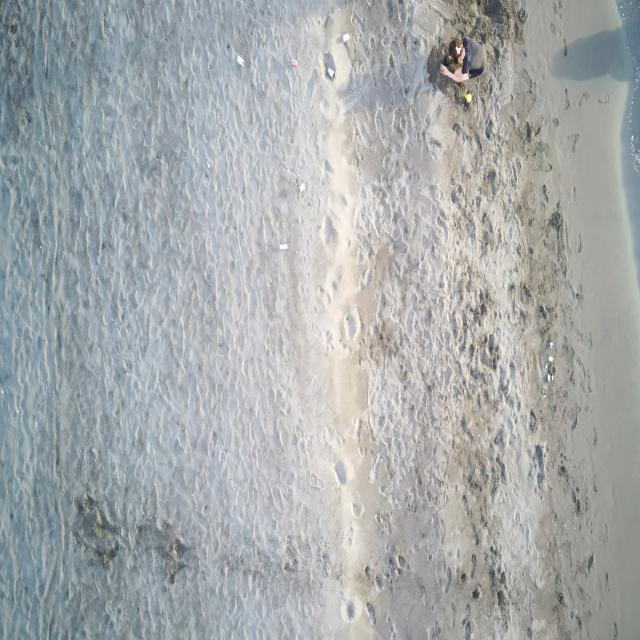Garbage: (324, 51, 335, 79), (546, 360, 555, 380), (464, 91, 472, 103), (342, 32, 350, 42), (236, 55, 243, 65), (327, 67, 333, 77), (291, 57, 298, 65), (299, 181, 304, 192), (279, 243, 287, 248), (547, 373, 552, 380), (547, 355, 552, 362), (548, 340, 552, 347)
